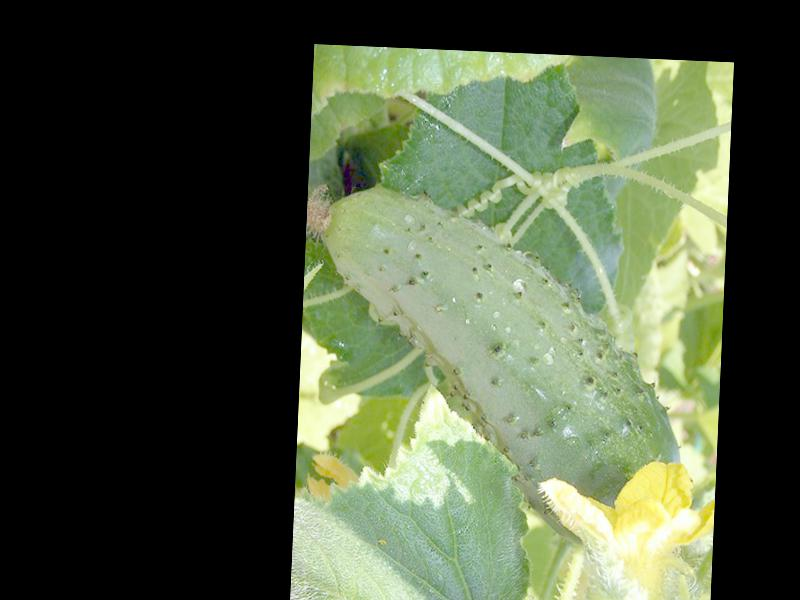Cucumber: (293, 183, 691, 549)
